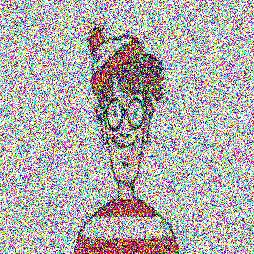waldos: (74, 26, 183, 254)
